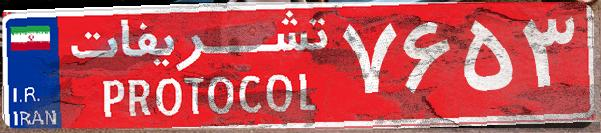3: (520, 20, 580, 115)
5: (460, 20, 520, 115)
6: (400, 20, 460, 115)
7: (340, 20, 400, 115)
تشریفات: (60, 8, 340, 125)
